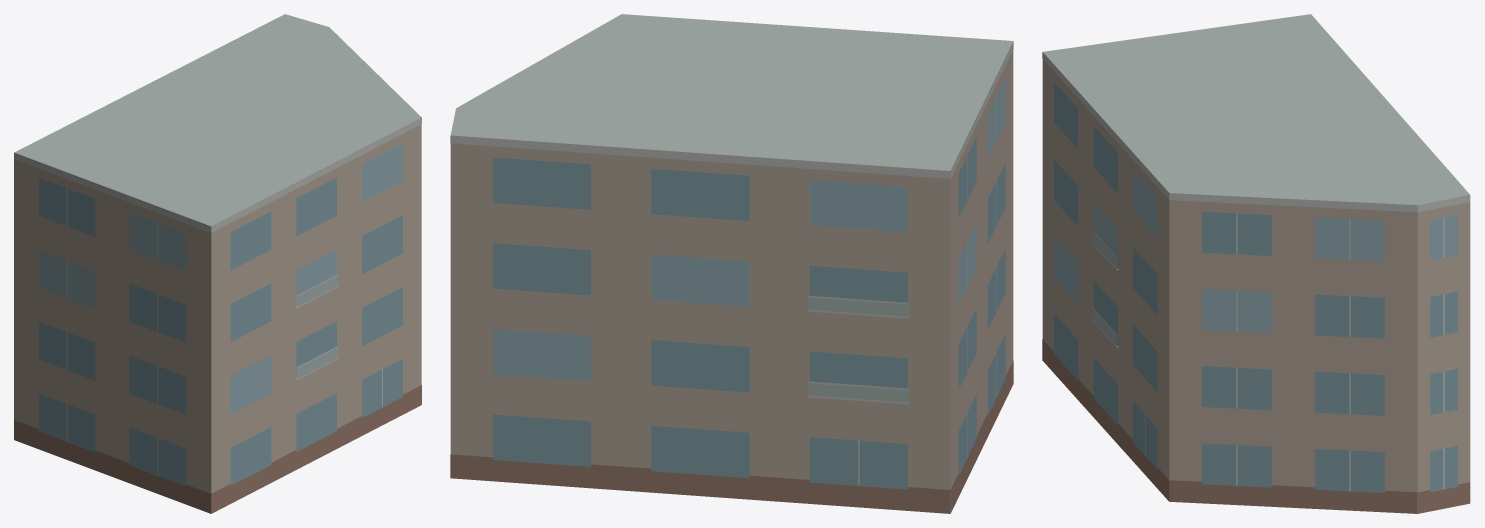
Rendered from survey-upis-33030012.glb.
3 renders of one model, left to right at view 1: azimuth 30°, elevation 25°; view 2: azimuth 150°, elevation 25°; view 3: azimuth 270°, elevation 25°, orthographic. The views are drawn at different scales.
Parts seen in each view (by area): view 1: survey-upis-33030012.tmp; view 2: survey-upis-33030012.tmp; view 3: survey-upis-33030012.tmp.
Boxes of the visible parts, <box> form: survey-upis-33030012.tmp: <box>14,14,421,513</box>; survey-upis-33030012.tmp: <box>450,14,1013,513</box>; survey-upis-33030012.tmp: <box>1042,14,1470,513</box>.
Size of the model in its own units: 14.09 by 10.6 by 13.32.
